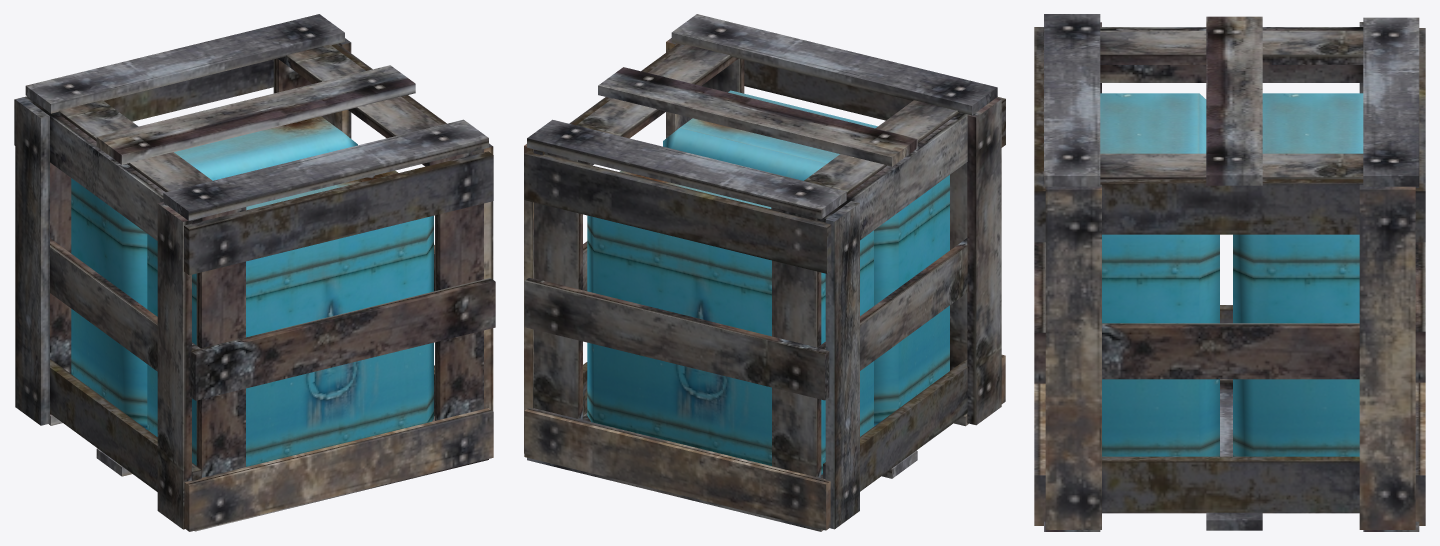
Rendered from box_crate05.dae.
3 views of the same model, side by side, from view 1: azimuth 30°, elevation 25°; view 2: azimuth 150°, elevation 25°; view 3: azimuth 270°, elevation 25° (orthographic). The views are drawn at different scales.
Parts seen in each view (by area): view 1: crate; view 2: crate; view 3: crate.
Part boxes in pixels (x1,y1,x2,y2): crate: (14, 14, 495, 531); crate: (524, 14, 1005, 531); crate: (1034, 14, 1425, 531).
Size of what is drawn, in the model's own units: 0.6292 by 0.6244 by 0.6209.
